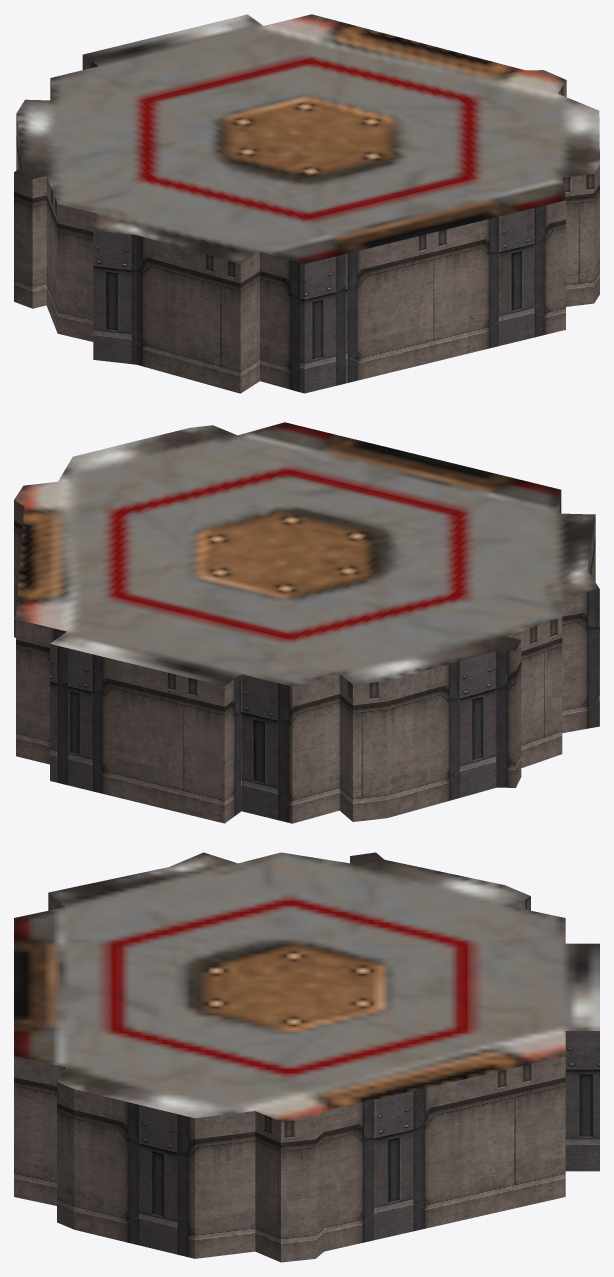
The model's file is bsealed_light_a_53.glb.
3 views of the same model, one above another, from view 1: azimuth 30°, elevation 25°; view 2: azimuth 150°, elevation 25°; view 3: azimuth 270°, elevation 25° (orthographic). The views are drawn at different scales.
Parts seen in each view (by area): view 1: buildings/saxarba/bsealed_light/bsealed_light_a_53; view 2: buildings/saxarba/bsealed_light/bsealed_light_a_53; view 3: buildings/saxarba/bsealed_light/bsealed_light_a_53.
Boxes of the visible parts, bbox=[...] form: buildings/saxarba/bsealed_light/bsealed_light_a_53: bbox=[14, 14, 599, 393]; buildings/saxarba/bsealed_light/bsealed_light_a_53: bbox=[14, 422, 599, 823]; buildings/saxarba/bsealed_light/bsealed_light_a_53: bbox=[14, 852, 599, 1262].
Size of the model in its own units: 74 by 18 by 68.
